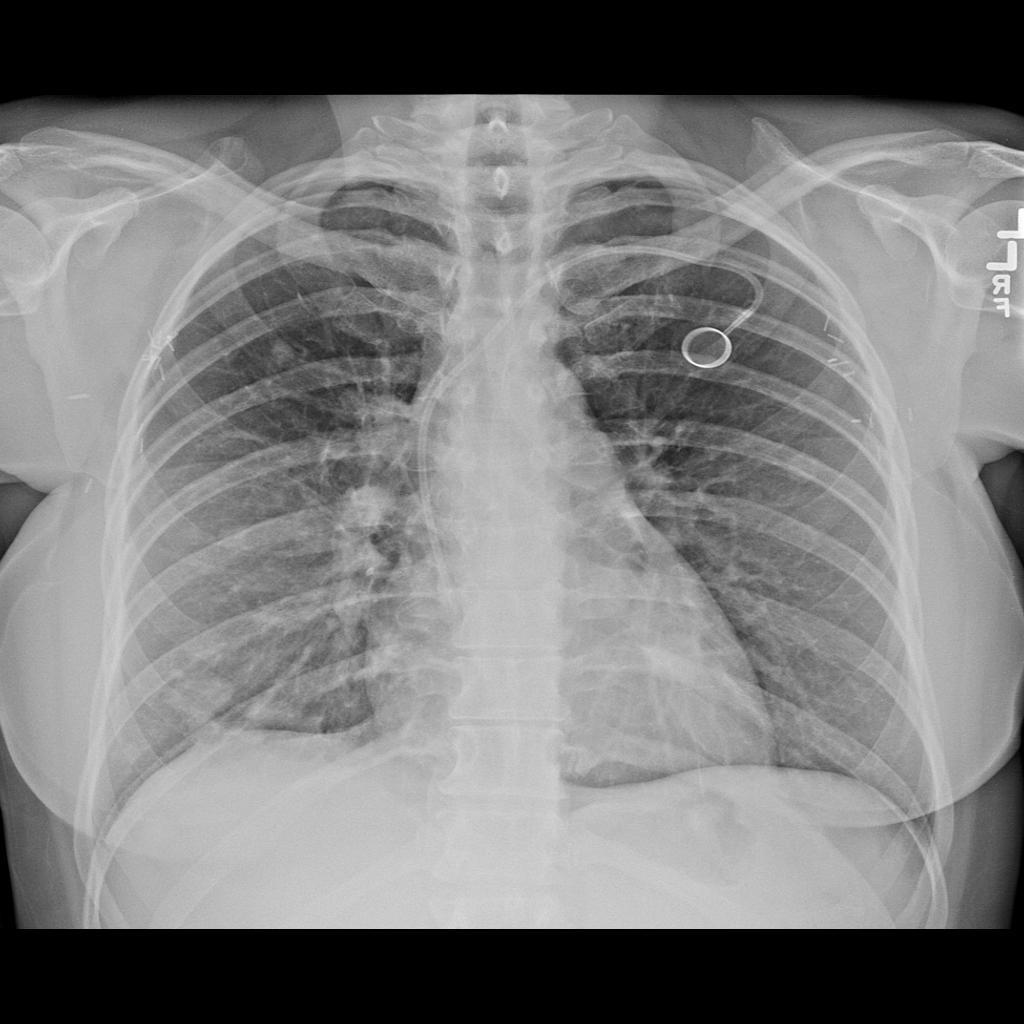Nodule: (167, 663, 238, 723), (262, 343, 304, 372), (258, 701, 297, 728)
